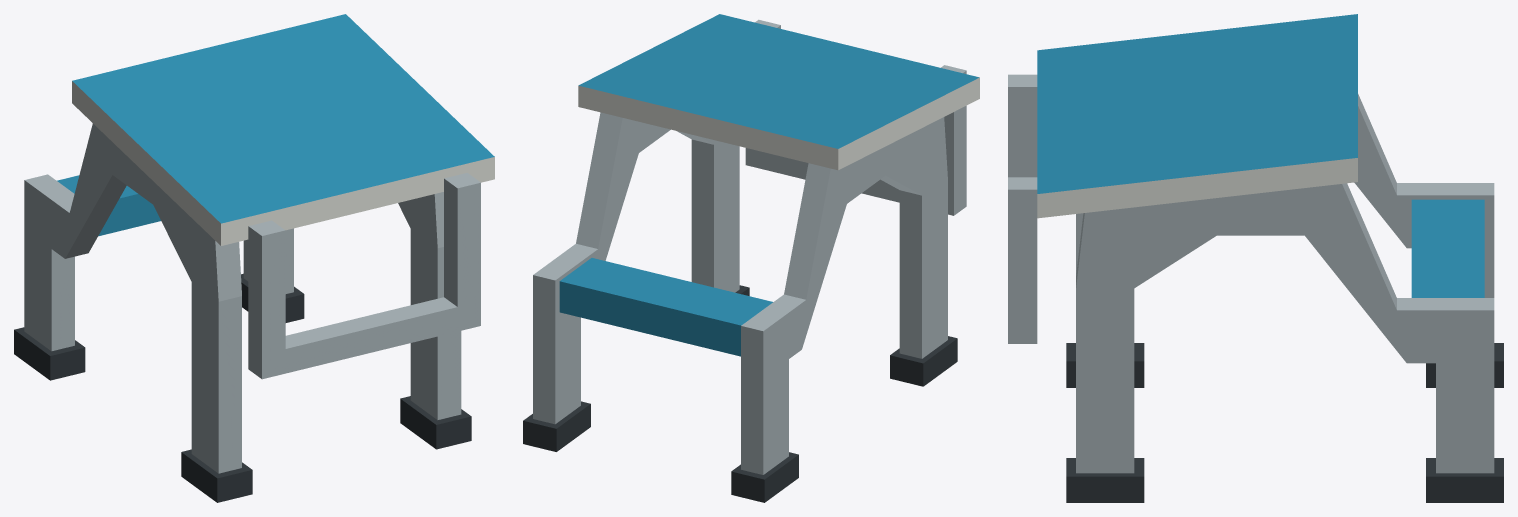
3 views of the same model, side by side, from view 1: azimuth 30°, elevation 25°; view 2: azimuth 150°, elevation 25°; view 3: azimuth 270°, elevation 25° (orthographic). The views are drawn at different scales.
Parts seen in each view (by area): view 1: WholeInclinedStartingDeck, LeftWholeArchLeggedSupport, WholeFrontUHandgrip, RightWholeArchLeggedSupport, LeftFrontGroundSole, LeftRearGroundSole, RightFrontGroundSole, WholeRearApproachTread, RightRearGroundSole; view 2: WholeInclinedStartingDeck, LeftWholeArchLeggedSupport, RightWholeArchLeggedSupport, WholeRearApproachTread, WholeFrontUHandgrip, LeftRearGroundSole, LeftFrontGroundSole, RightRearGroundSole; view 3: WholeInclinedStartingDeck, RightWholeArchLeggedSupport, WholeFrontUHandgrip, WholeRearApproachTread, LeftWholeArchLeggedSupport, RightFrontGroundSole, RightRearGroundSole, LeftFrontGroundSole, LeftRearGroundSole.
Part boxes in pixels (x1,y1,x2,y2): WholeInclinedStartingDeck: (72, 14, 494, 245); LeftWholeArchLeggedSupport: (24, 123, 241, 473); WholeFrontUHandgrip: (248, 173, 480, 379); RightWholeArchLeggedSupport: (243, 192, 461, 419); LeftFrontGroundSole: (181, 449, 252, 502); LeftRearGroundSole: (14, 327, 85, 380); RightFrontGroundSole: (400, 396, 471, 449); WholeRearApproachTread: (57, 175, 160, 236); RightRearGroundSole: (241, 273, 304, 322); WholeInclinedStartingDeck: (578, 14, 979, 170); LeftWholeArchLeggedSupport: (741, 117, 947, 474); RightWholeArchLeggedSupport: (533, 112, 739, 424); WholeRearApproachTread: (559, 258, 772, 356); WholeFrontUHandgrip: (745, 19, 966, 215); LeftRearGroundSole: (731, 452, 798, 502); LeftFrontGroundSole: (890, 336, 957, 386); RightRearGroundSole: (523, 401, 590, 451); WholeInclinedStartingDeck: (1037, 14, 1357, 218); RightWholeArchLeggedSupport: (1076, 183, 1494, 473); WholeFrontUHandgrip: (1008, 74, 1037, 343); WholeRearApproachTread: (1411, 199, 1484, 297); LeftWholeArchLeggedSupport: (1076, 94, 1494, 297); RightFrontGroundSole: (1066, 458, 1144, 502); RightRearGroundSole: (1426, 458, 1503, 502); LeftFrontGroundSole: (1066, 343, 1144, 387); LeftRearGroundSole: (1426, 343, 1503, 387).
Size of the model in its own units: 0.7 by 0.795 by 1.02.
